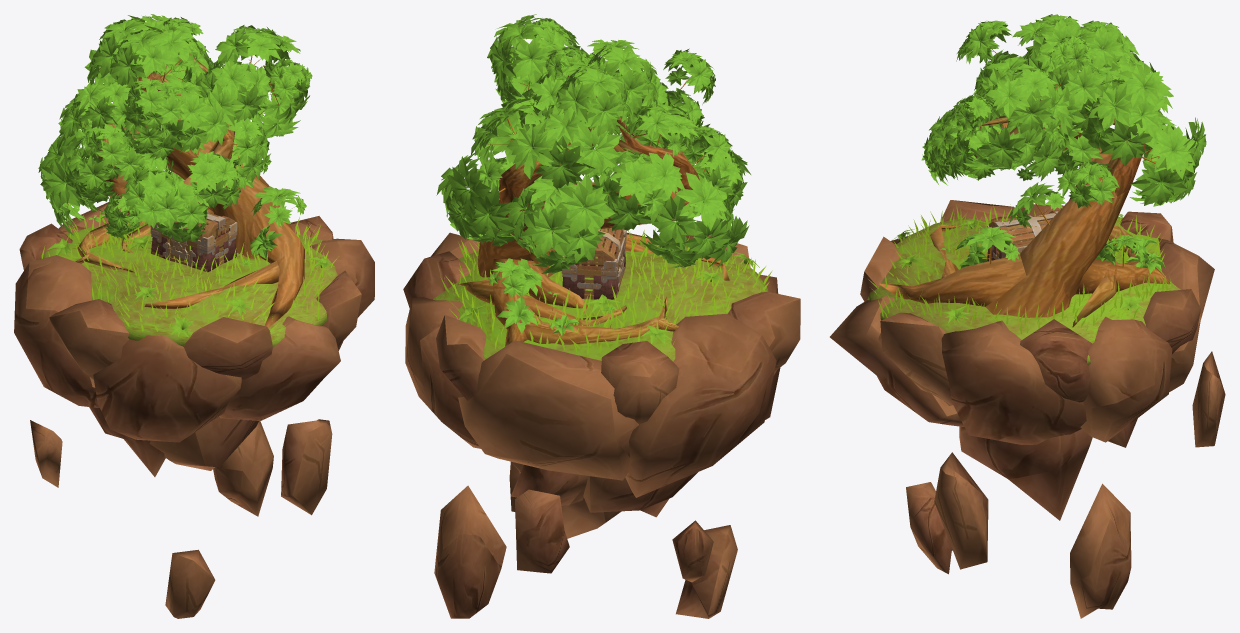
The model's file is floating-island.glb.
3 renders of one model, left to right at view 1: azimuth 30°, elevation 25°; view 2: azimuth 150°, elevation 25°; view 3: azimuth 270°, elevation 25°, orthographic. The views are drawn at different scales.
Visible parts, largest first — view 1: Rock_01_LP_BigRocks_0, Plant_01_LP_Leaves_0, Grass_01_OtherNature_0, Tree_01_LP_BigTree_0, Bottom_01_LP_Bottom_0, Top_01_LP_Top_0, Cloth_01_LP_DetailsCloth_0; view 2: Rock_01_LP_BigRocks_0, Plant_01_LP_Leaves_0, Grass_01_OtherNature_0, Tree_01_LP_BigTree_0, Top_01_LP_Top_0, Bottom_01_LP_Bottom_0, Cloth_01_LP_DetailsCloth_0; view 3: Rock_01_LP_BigRocks_0, Plant_01_LP_Leaves_0, Tree_01_LP_BigTree_0, Grass_01_OtherNature_0, Top_01_LP_Top_0.
Part boxes in pixels (x1=…): Rock_01_LP_BigRocks_0: x1=14, y1=202, x2=374, y2=618; Plant_01_LP_Leaves_0: x1=38, y1=14, x2=334, y2=337; Grass_01_OtherNature_0: x1=40, y1=47, x2=338, y2=347; Tree_01_LP_BigTree_0: x1=75, y1=54, x2=304, y2=327; Bottom_01_LP_Bottom_0: x1=150, y1=223, x2=237, y2=271; Top_01_LP_Top_0: x1=150, y1=211, x2=237, y2=247; Cloth_01_LP_DetailsCloth_0: x1=151, y1=217, x2=236, y2=272; Rock_01_LP_BigRocks_0: x1=403, y1=232, x2=800, y2=618; Plant_01_LP_Leaves_0: x1=436, y1=14, x2=759, y2=345; Grass_01_OtherNature_0: x1=433, y1=39, x2=772, y2=361; Tree_01_LP_BigTree_0: x1=458, y1=75, x2=729, y2=346; Top_01_LP_Top_0: x1=562, y1=227, x2=626, y2=271; Bottom_01_LP_Bottom_0: x1=561, y1=239, x2=626, y2=299; Cloth_01_LP_DetailsCloth_0: x1=562, y1=232, x2=626, y2=299; Rock_01_LP_BigRocks_0: x1=830, y1=200, x2=1225, y2=618; Plant_01_LP_Leaves_0: x1=893, y1=14, x2=1206, y2=323; Tree_01_LP_BigTree_0: x1=879, y1=69, x2=1170, y2=327; Grass_01_OtherNature_0: x1=867, y1=36, x2=1180, y2=365; Top_01_LP_Top_0: x1=987, y1=209, x2=1059, y2=251.
Bounding box in the file's own units: 4.43 × 7.07 × 4.55.
7 materials, 7 textured.
